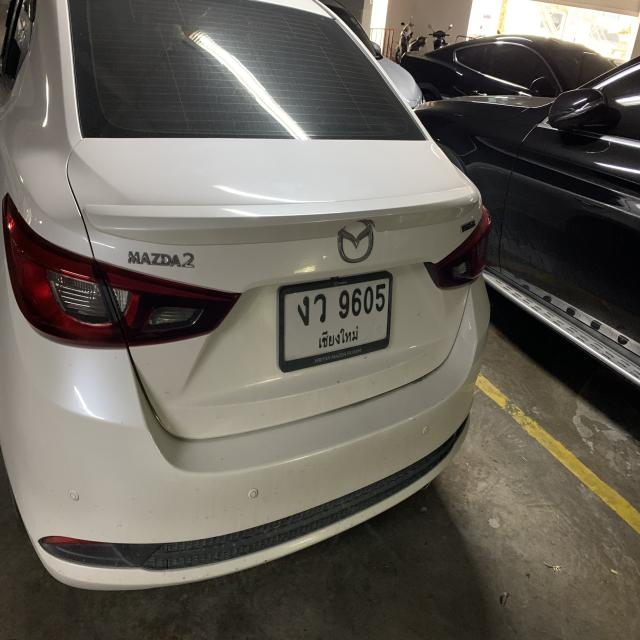license_plate: (274, 268, 397, 375)
